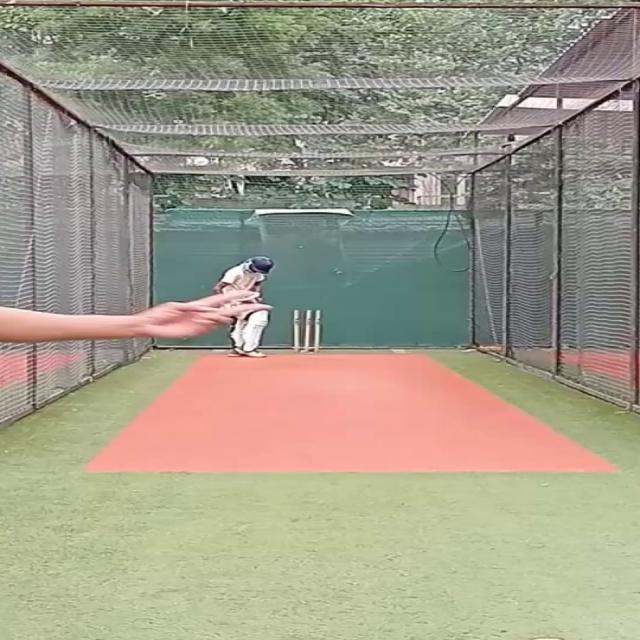stump: (292, 309, 324, 353)
